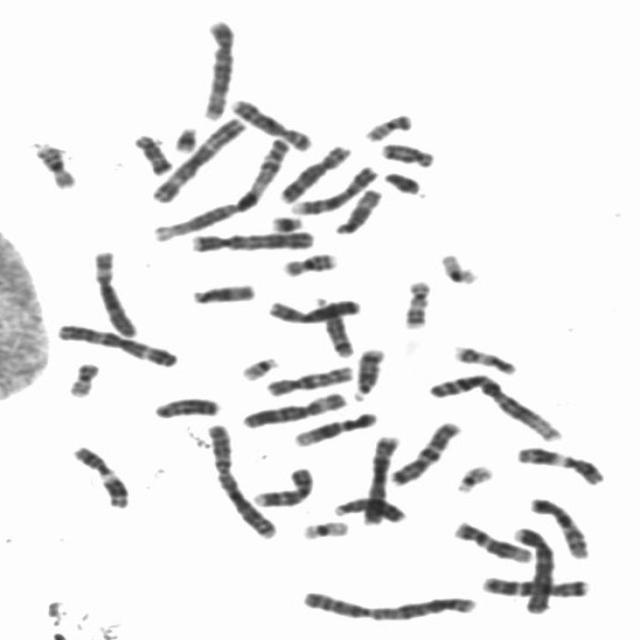A1: (147, 133, 293, 243), (423, 368, 565, 444)
A2: (202, 418, 282, 540), (296, 584, 482, 623)
A3: (146, 112, 249, 204), (51, 319, 182, 368)
B4: (507, 521, 557, 615), (185, 225, 318, 254)
B5: (194, 15, 237, 123), (359, 430, 404, 526)
C10: (523, 492, 593, 561), (260, 360, 356, 398)
C11: (512, 441, 608, 487), (66, 441, 130, 510)
C12: (449, 516, 536, 564), (288, 407, 381, 448)
C6: (88, 245, 141, 339), (237, 387, 352, 430)
C7: (383, 417, 464, 488), (476, 571, 594, 600)
C8: (226, 94, 316, 152), (274, 140, 354, 204)
C9: (285, 162, 381, 216), (248, 462, 316, 508)
D13: (327, 492, 408, 524), (150, 392, 223, 421)
D14: (311, 294, 358, 358), (348, 343, 388, 402)
D15: (330, 184, 386, 236), (186, 279, 258, 306)
E16: (30, 138, 80, 190), (278, 248, 340, 278)
E17: (447, 340, 520, 376), (398, 275, 434, 331)
E18: (128, 130, 176, 176), (376, 138, 438, 168)
F19: (434, 248, 482, 286), (296, 515, 352, 541)
F20: (360, 108, 417, 143), (62, 357, 103, 398)
G21: (169, 122, 201, 154), (265, 210, 306, 233)
G22: (451, 460, 496, 494), (236, 352, 283, 382)
X: (264, 294, 364, 326)
Y: (380, 167, 422, 195)
